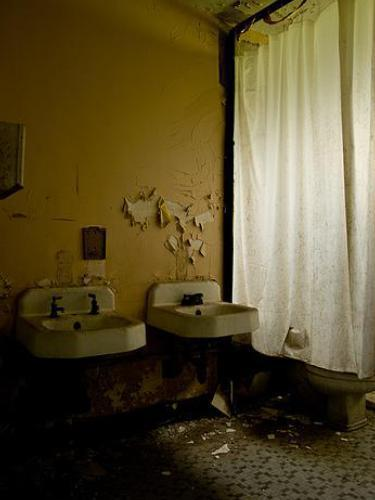Lavamanos: (8, 273, 142, 363), (148, 274, 253, 346)
